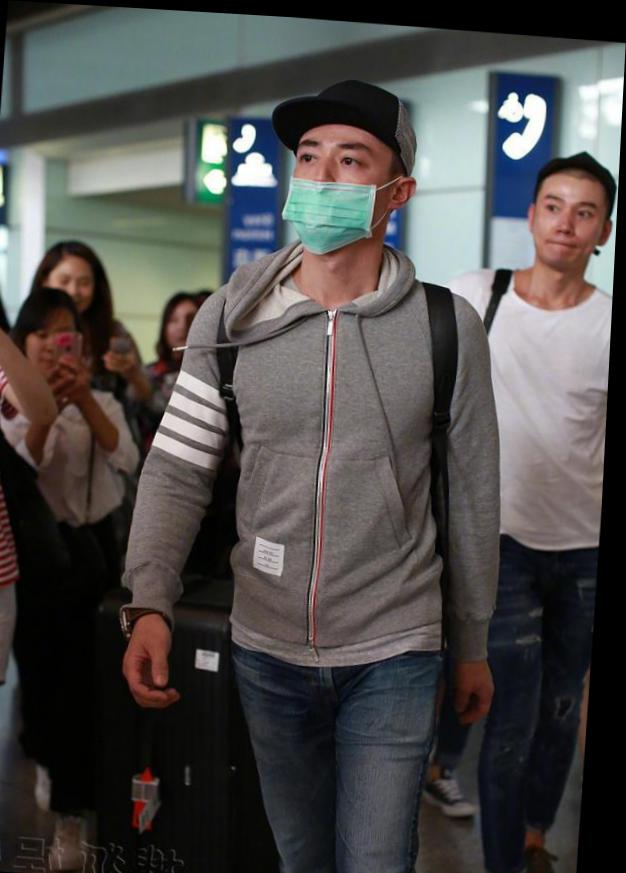NONE: (536, 175, 607, 260), (31, 324, 86, 377), (55, 261, 98, 310)
WRONG: (281, 125, 400, 244)
